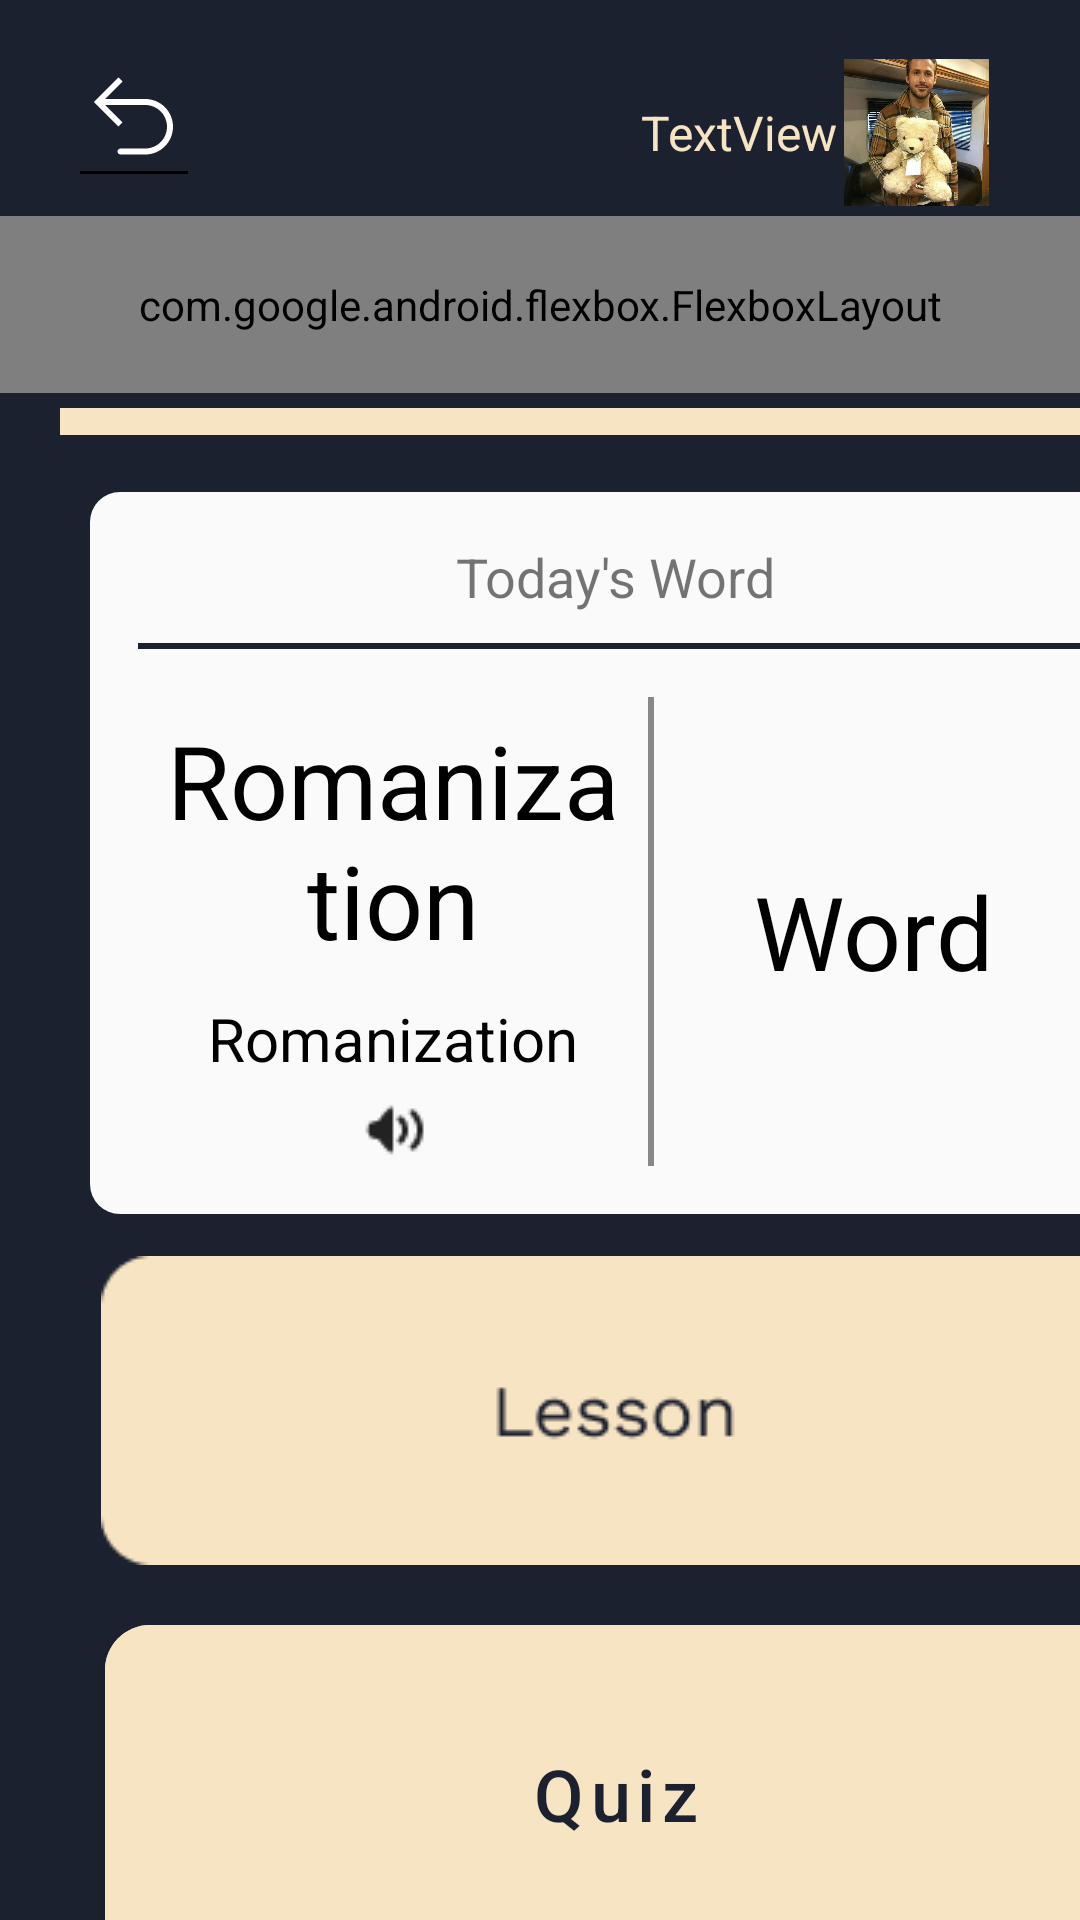

Where to tap for icons on this 1080px×1920px app screen, as point (x, y):
refund back: point (134, 125)
sound max: point (394, 1130)
